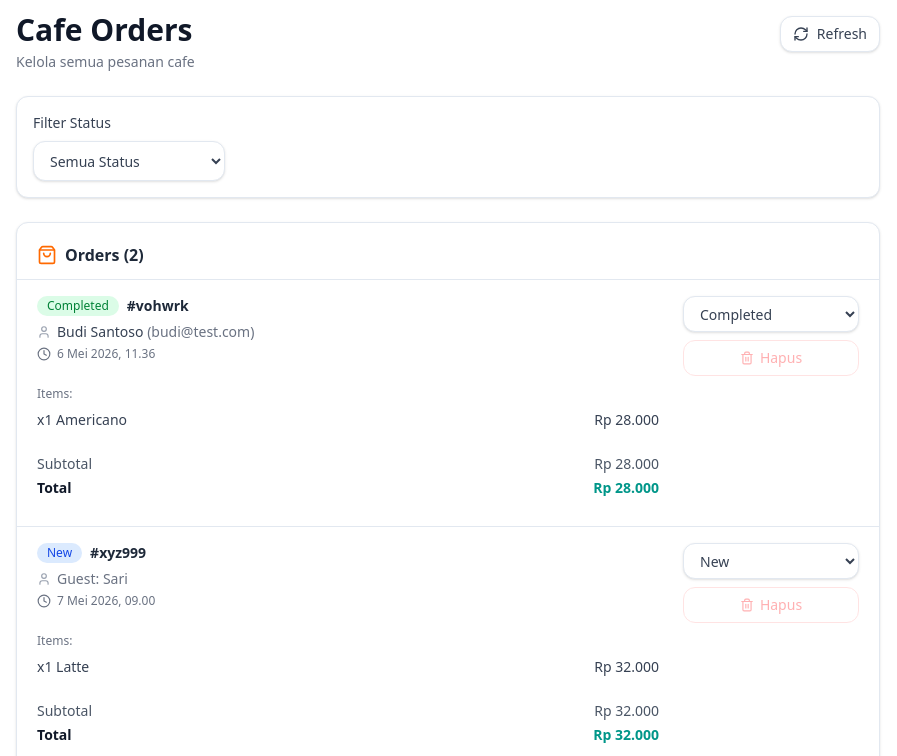
Test case: OrdersClient (AC-101) › filter by status narrows displayed orders
The image size is (897, 756).
Step 1. Select "Completed" in the dropdown labelled "Filter Status" → (129, 161), box [33,141,225,181]
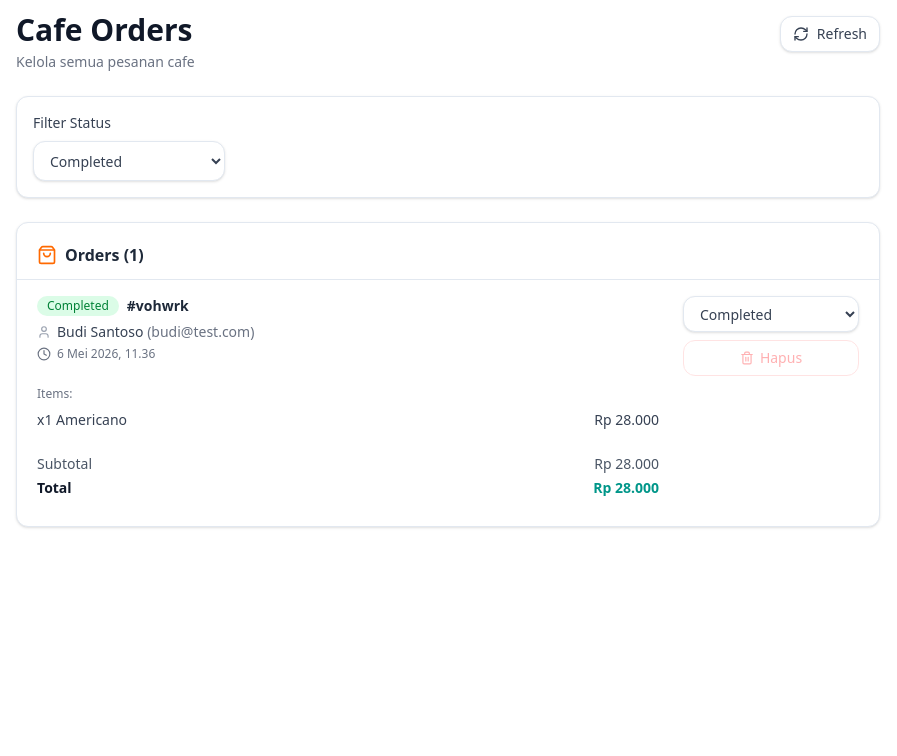
Expected: the text "#vohwrk" is shown, [127,296,189,316]
Expected: the text "#xyz999" is gone
